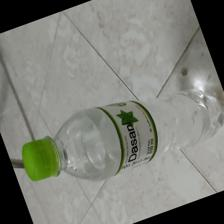Dasani: (18, 88, 220, 183)
